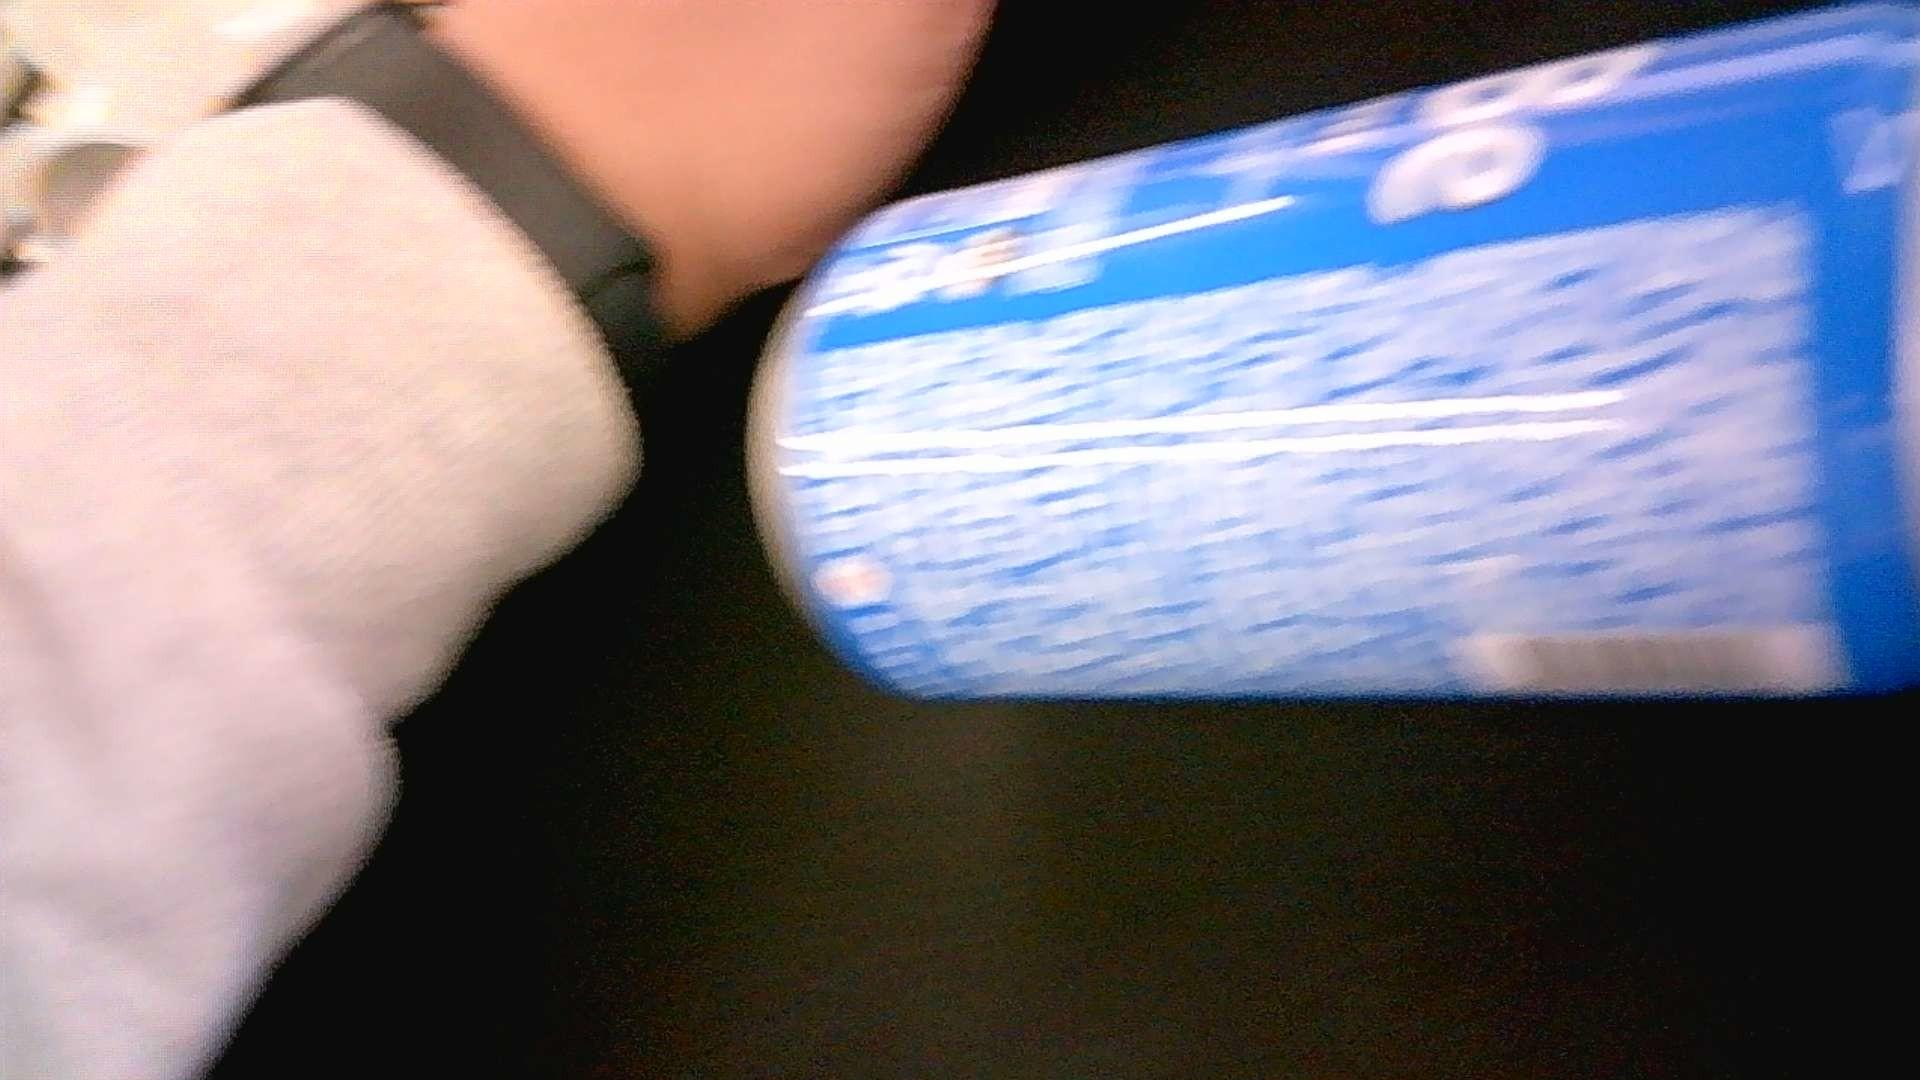letsbe: (745, 0, 1920, 705)
